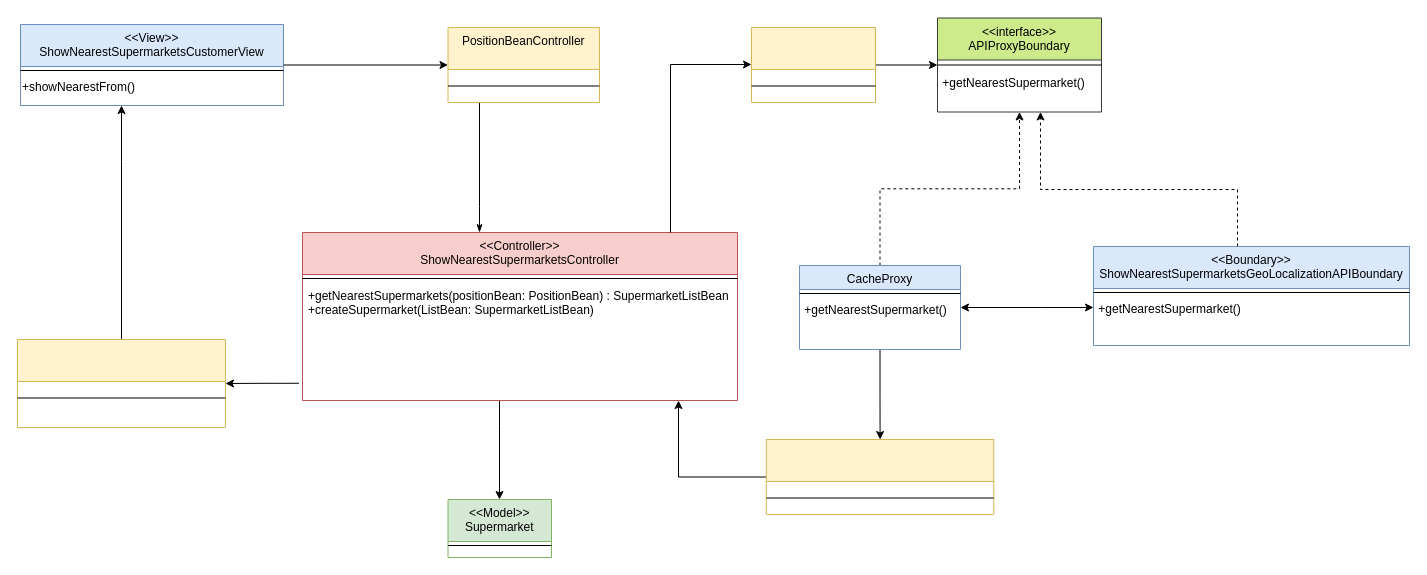
This 1427x575 diagram has some shape labels left out. Here are the shapes that lost their labels. From the top down, the centre of each, then its label:
[813,64]: PositionAPIBean
[121,383]: NearestSupermarketBean
[879,476]: NearestSupermarketsAPIBean
